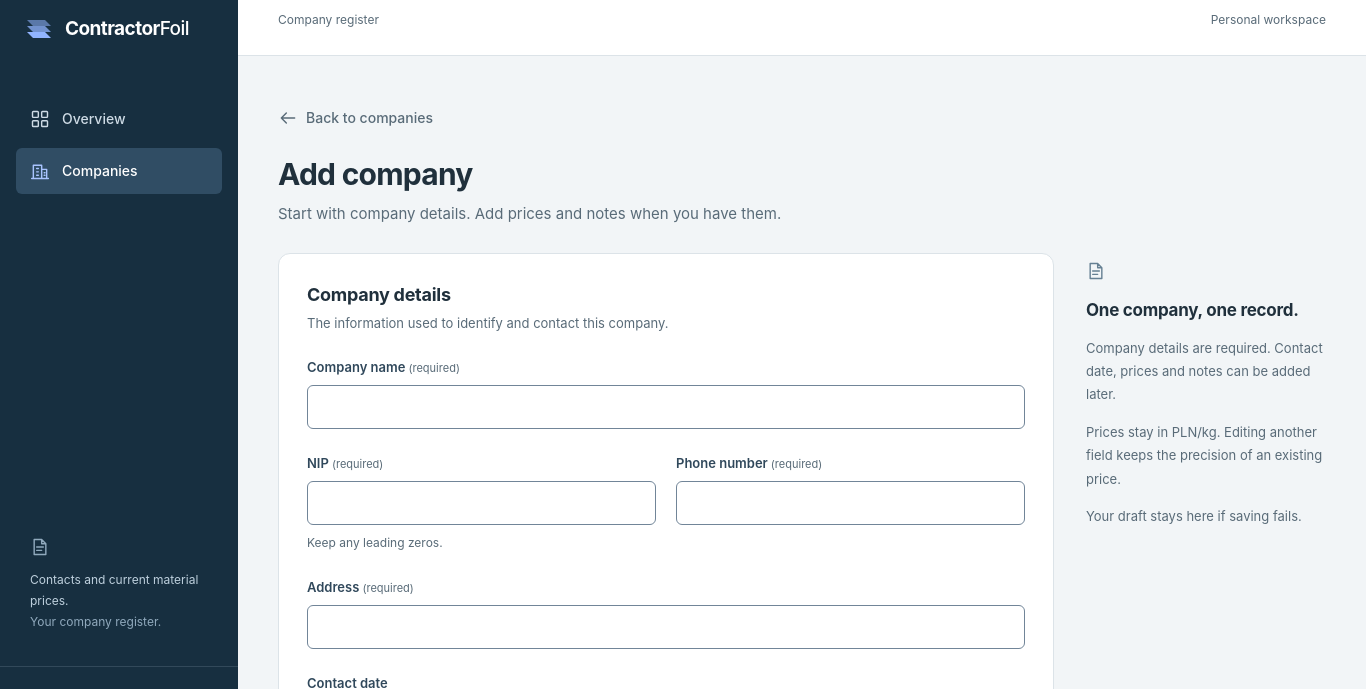
Scenario: requires visible reconciliation before an uncertain creation can be retried
This screenshot has width=1366, height=689.
In the field labelled "Company name (required)": (666, 407) [307,385,1025,429], type "Riverbank Polymers"
In the field labelled "NIP (required)": (482, 503) [307,481,656,525], type "0001234567"
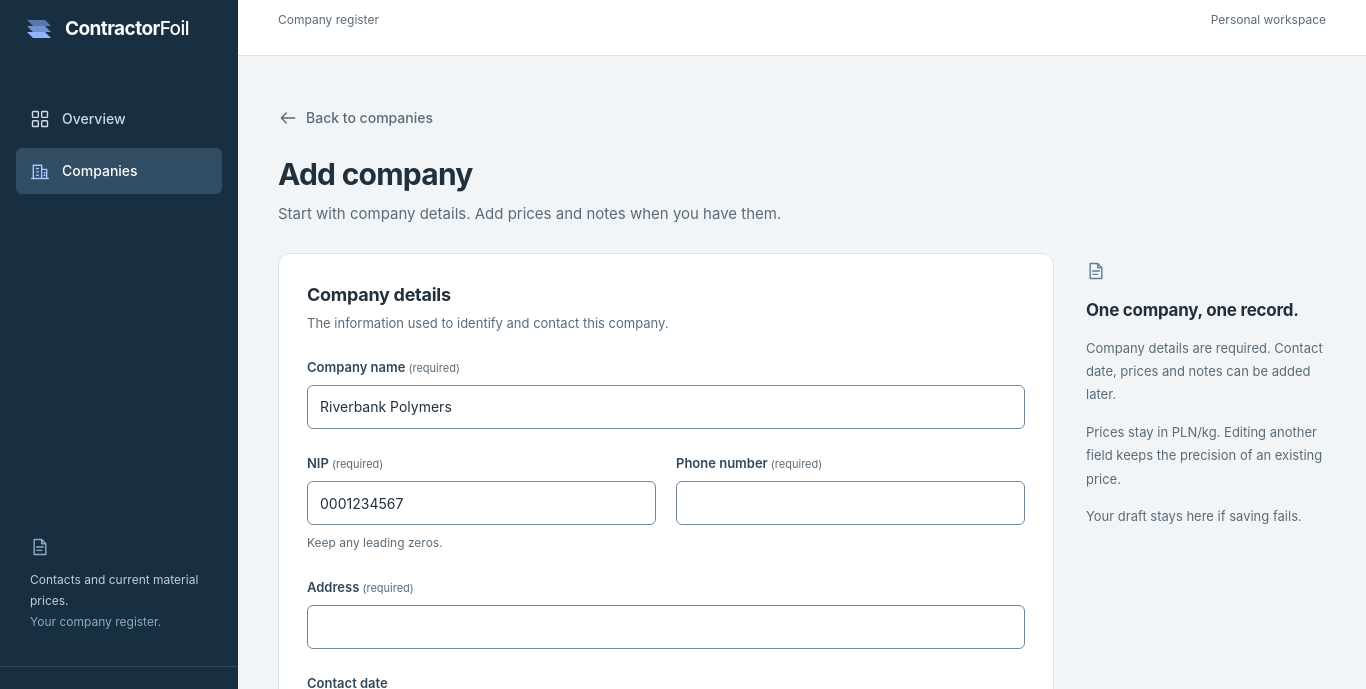
In the field labelled "Phone number (required)": (850, 503) [676,481,1025,525], type "+48 987 654 321"
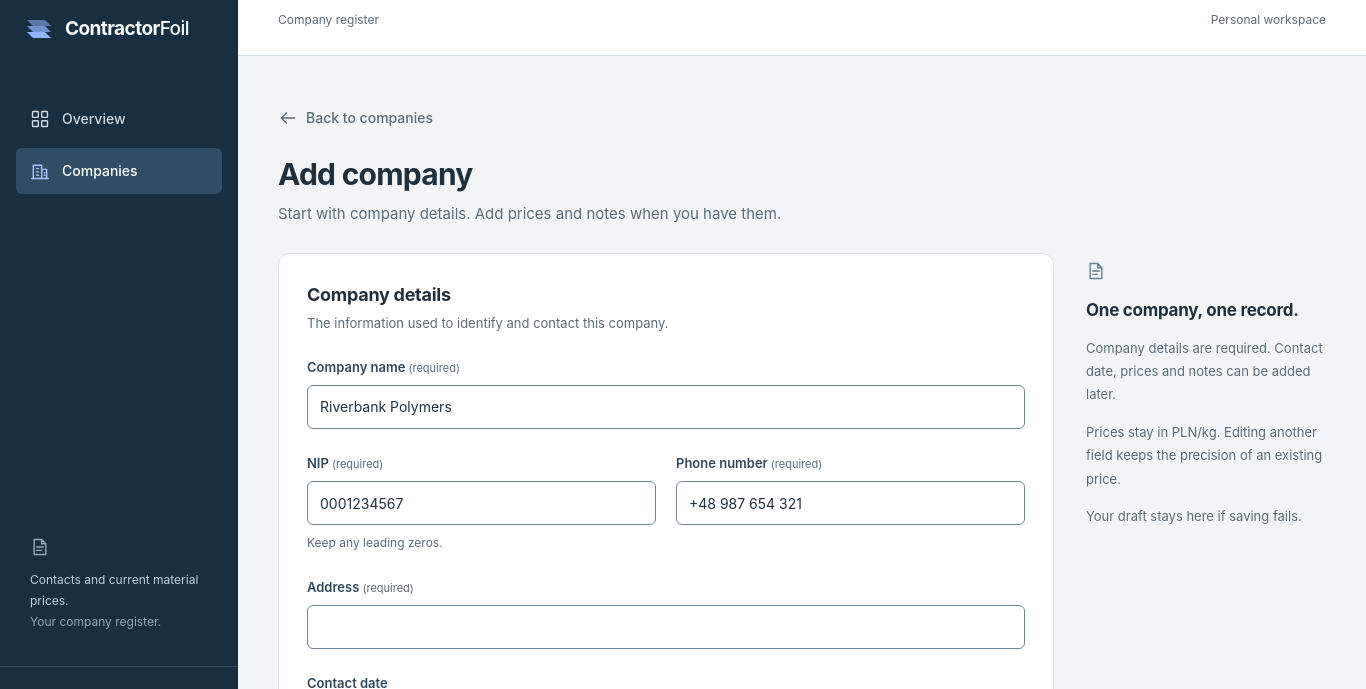
In the field labelled "Address (required)": (666, 627) [307,605,1025,649], type "42 Example Avenue"
(page scrolled)
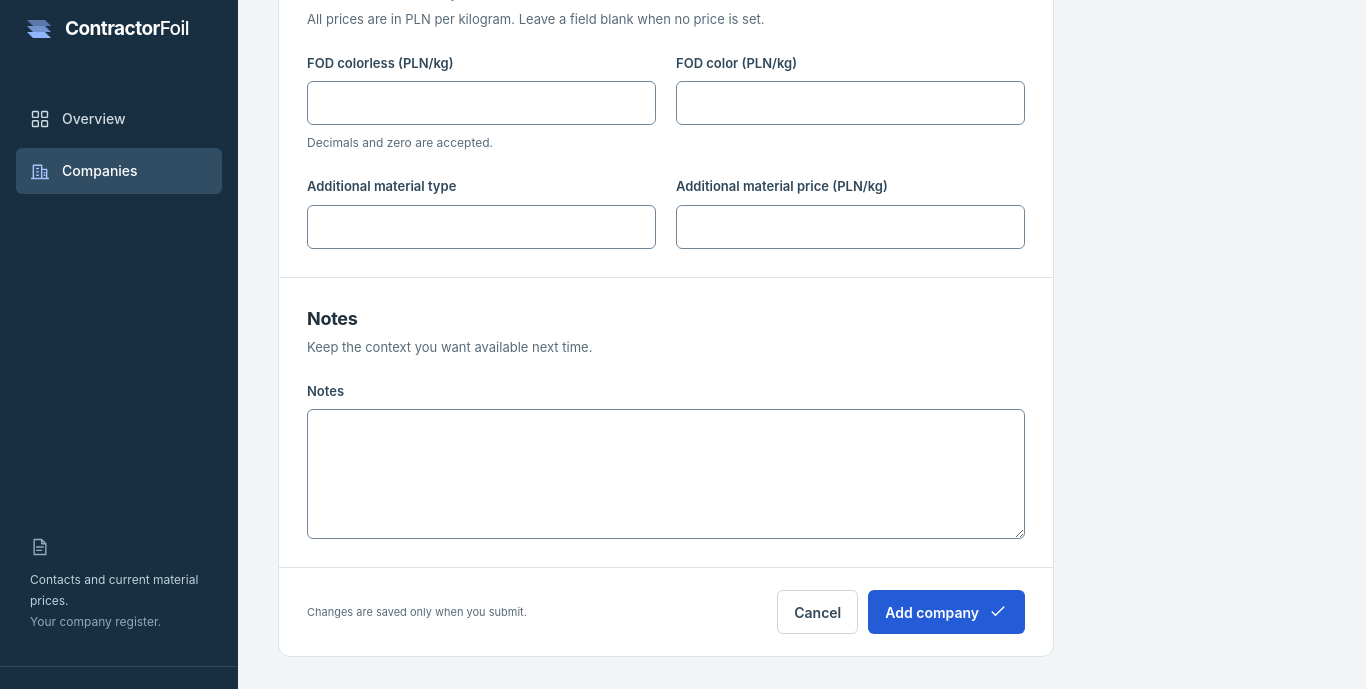
Click the button "Add company": click(947, 612) [868,590,1025,634]
(page scrolled)
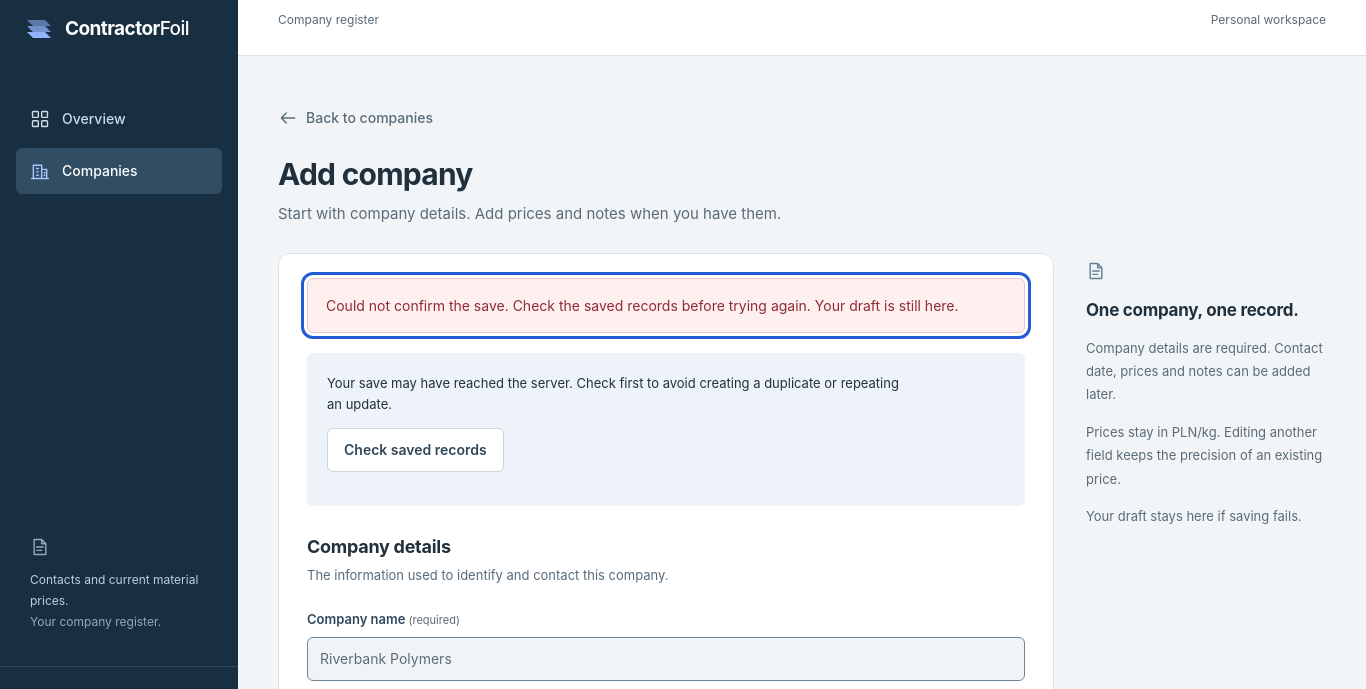
Expected: the message shows "confirm the save", [326,297,958,314]
Click the button "Check saved records": click(415, 450) [327,428,504,472]
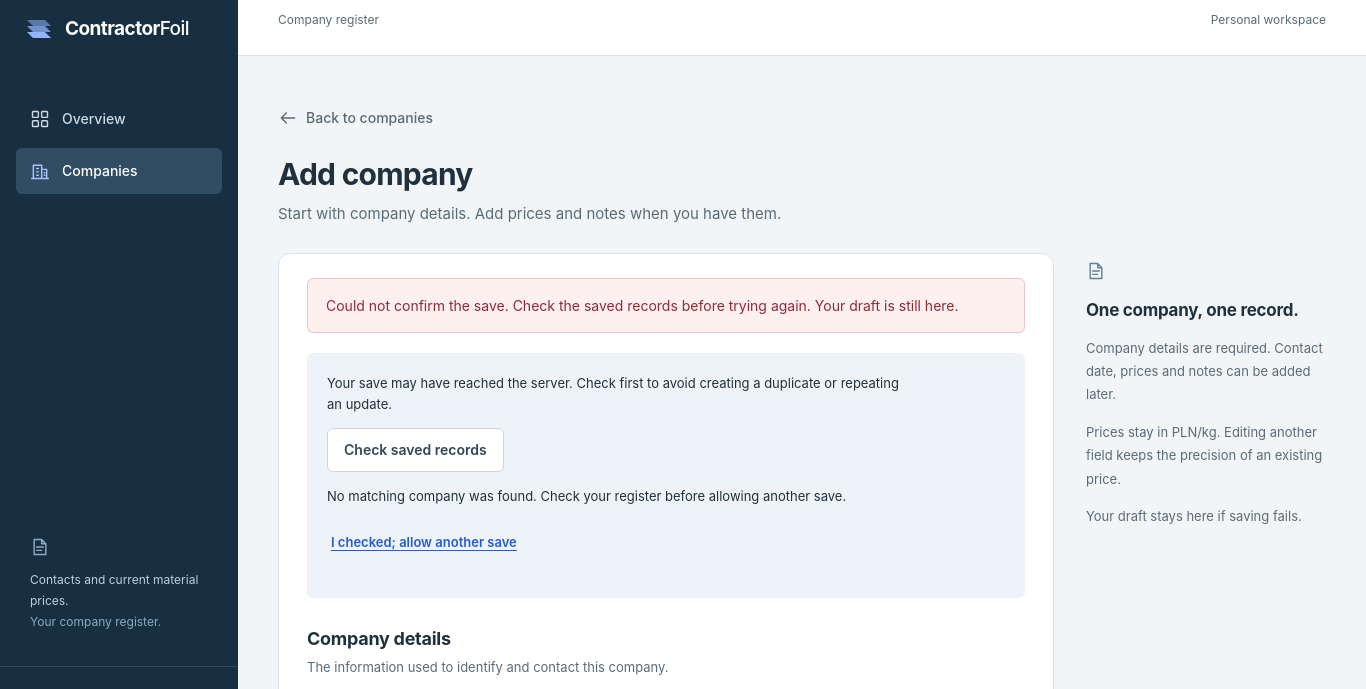
Expected: the text "No matching company was found" is shown, [327,488,846,504]
Click the button "I checked; allow another save": click(424, 542) [327,520,521,564]
(page scrolled)
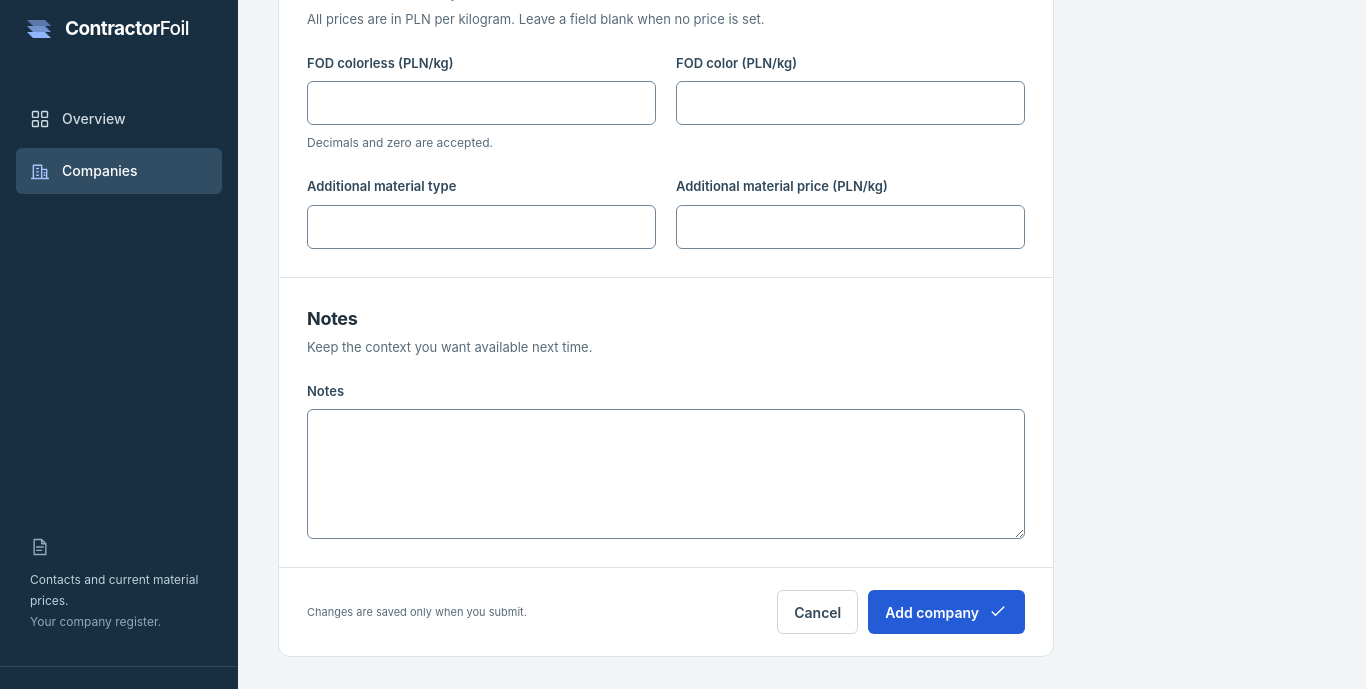
Expected: the button "Add company" is enabled, [868,590,1025,634]
